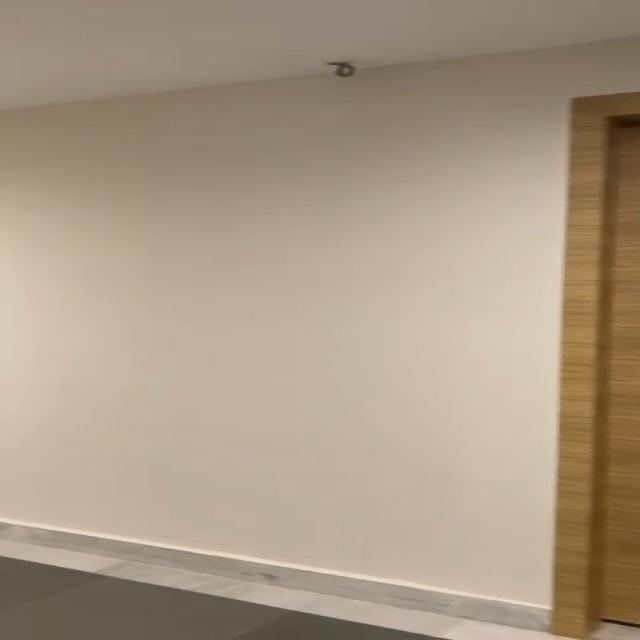floor: (0, 578, 545, 640)
wall: (0, 106, 564, 581)
